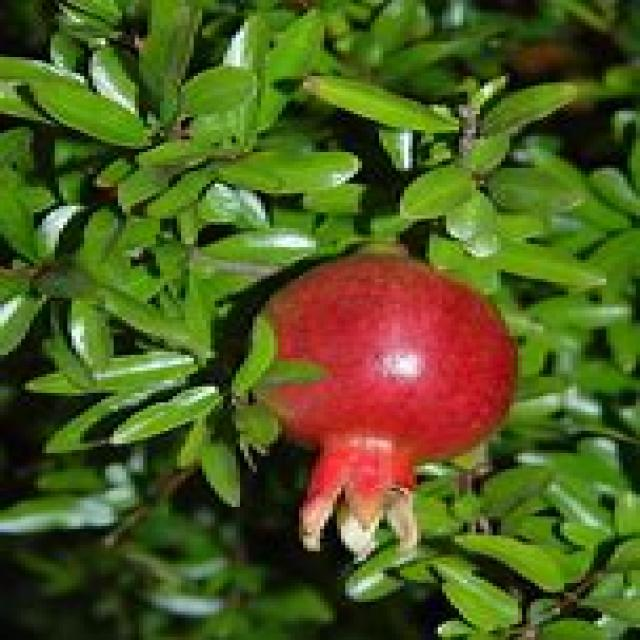Pomegranate: (250, 253, 523, 558)
